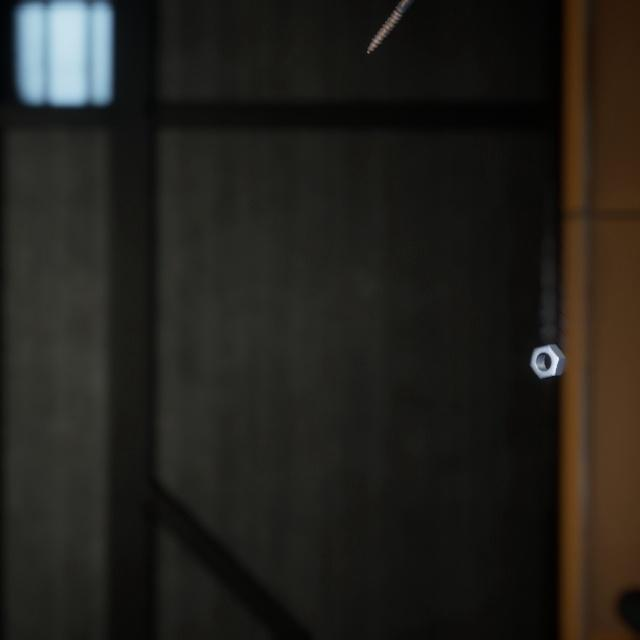bolt: (362, 0, 415, 50)
nut: (525, 321, 570, 364)
